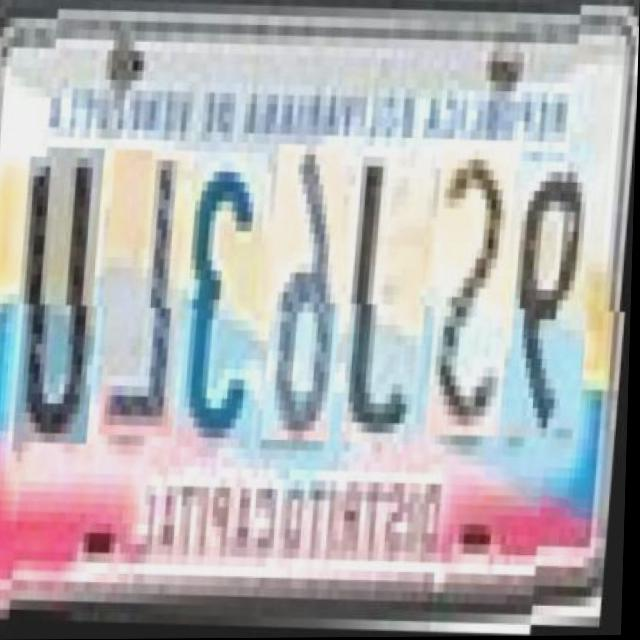3: (179, 154, 271, 453)
6: (263, 147, 351, 443)
9: (506, 152, 598, 441)
j: (343, 148, 435, 446)
l: (100, 153, 192, 442)
s: (428, 140, 520, 439)
u: (15, 150, 107, 449)
